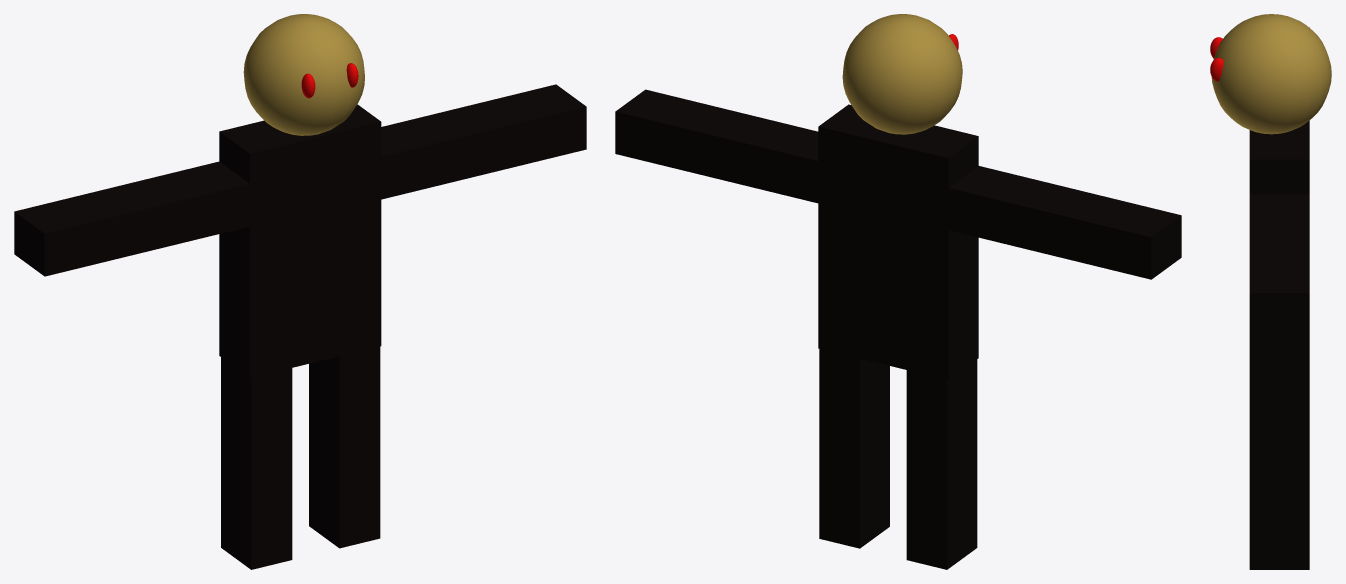
File: enemy1.fbx
The picture shows the model from 3 angles, left to right: view 1: azimuth 30°, elevation 25°; view 2: azimuth 150°, elevation 25°; view 3: azimuth 270°, elevation 25°; orthographic projection.
Parts seen in each view (by area): view 1: pasted__pasted__pCube1 (×3), pCube1, pasted__pCube1, pSphere1; view 2: pasted__pasted__pCube1 (×3), pCube1, pasted__pCube1, pSphere1; view 3: pasted__pCube1, pSphere1, pasted__pasted__pCube1, pCube1, pasted__pSphere2.
Part boxes in pixels (<box>): pasted__pasted__pCube1 (×3): <box>14,84,586,569</box>; pCube1: <box>219,104,381,377</box>; pasted__pCube1: <box>309,316,380,548</box>; pSphere1: <box>243,14,364,135</box>; pasted__pasted__pCube1 (×3): <box>615,89,1181,569</box>; pCube1: <box>818,104,978,379</box>; pasted__pCube1: <box>819,317,889,548</box>; pSphere1: <box>842,14,962,134</box>; pasted__pCube1: <box>1249,381,1309,569</box>; pSphere1: <box>1211,14,1331,134</box>; pasted__pasted__pCube1: <box>1249,194,1309,335</box>; pCube1: <box>1249,120,1309,380</box>; pasted__pSphere2: <box>1210,58,1223,81</box>.
Bounding box in the file's own units: 10.25 × 9.52 × 2.02.
